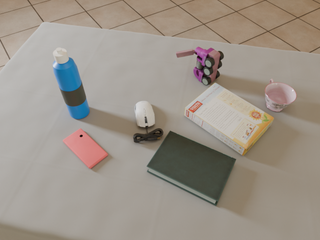book: (147, 131, 236, 206)
bottle: (53, 48, 89, 119)
box: (185, 83, 274, 156)
cup: (265, 79, 297, 111)
mouse: (135, 101, 155, 129)
phone: (63, 129, 108, 169)
toy_car: (176, 47, 224, 85)
